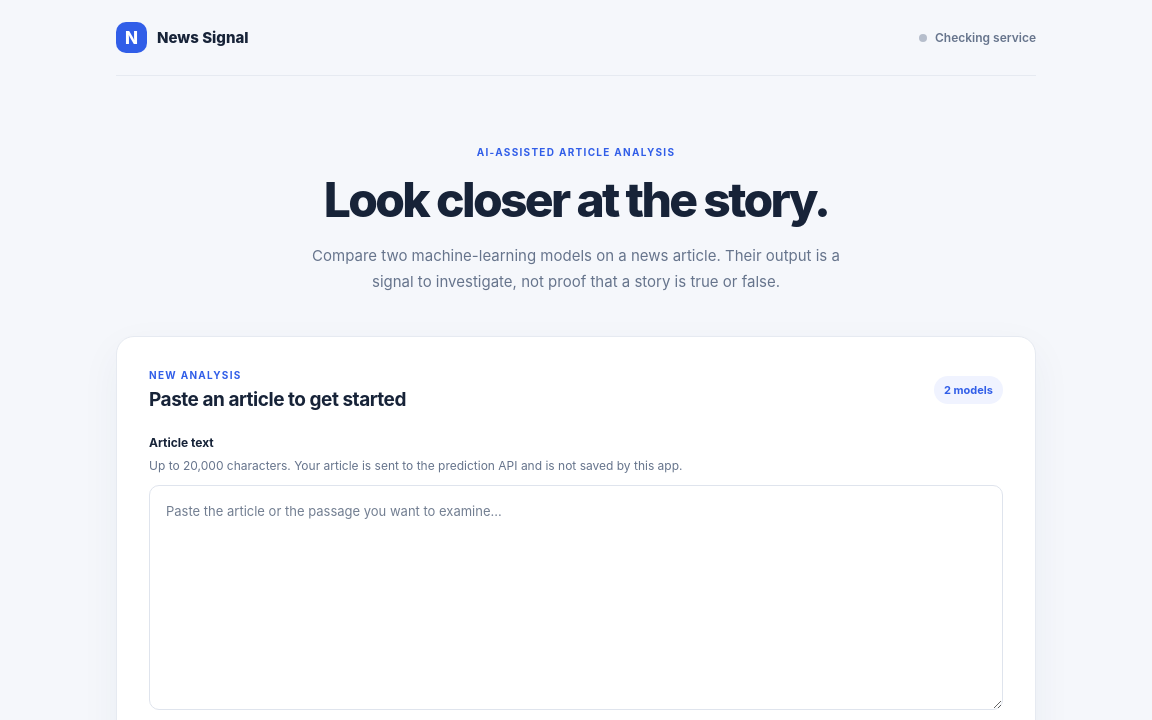
Test case: article analysis › renders API validation errors as readable text
Type "A sample article." into the text box labelled "Article text" at (576, 597), box [149, 485, 1003, 710]
(page scrolled)
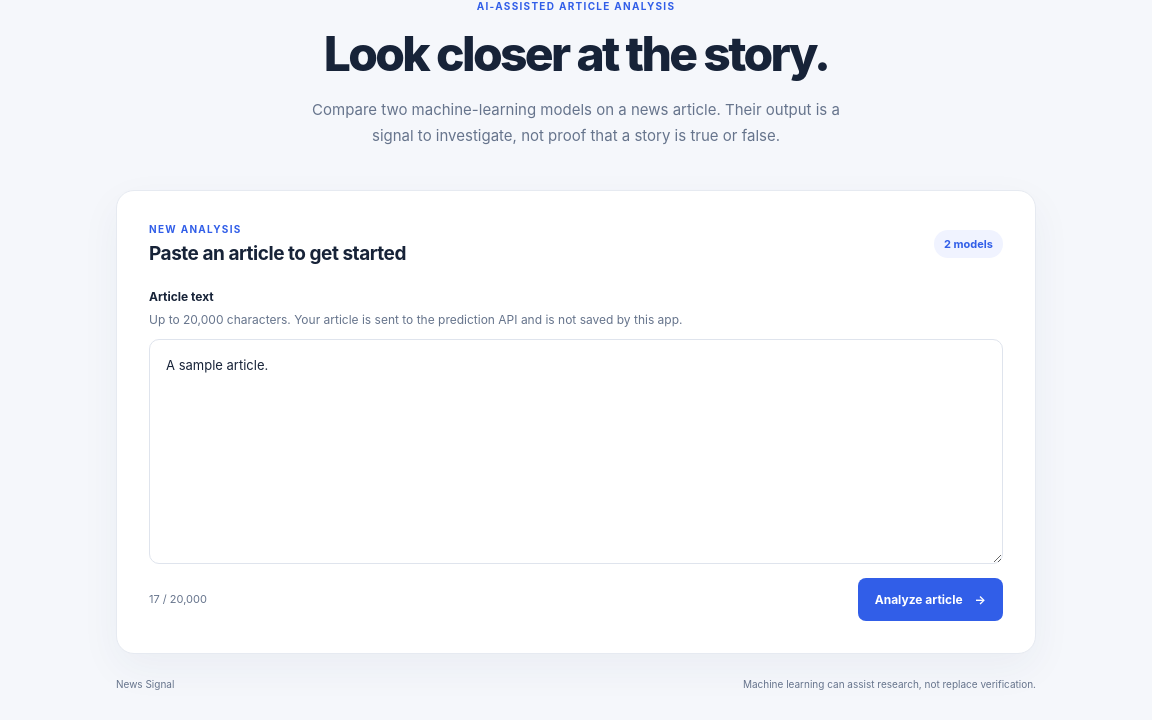
Click the button "Analyze article →" at (930, 599), box [858, 578, 1003, 621]
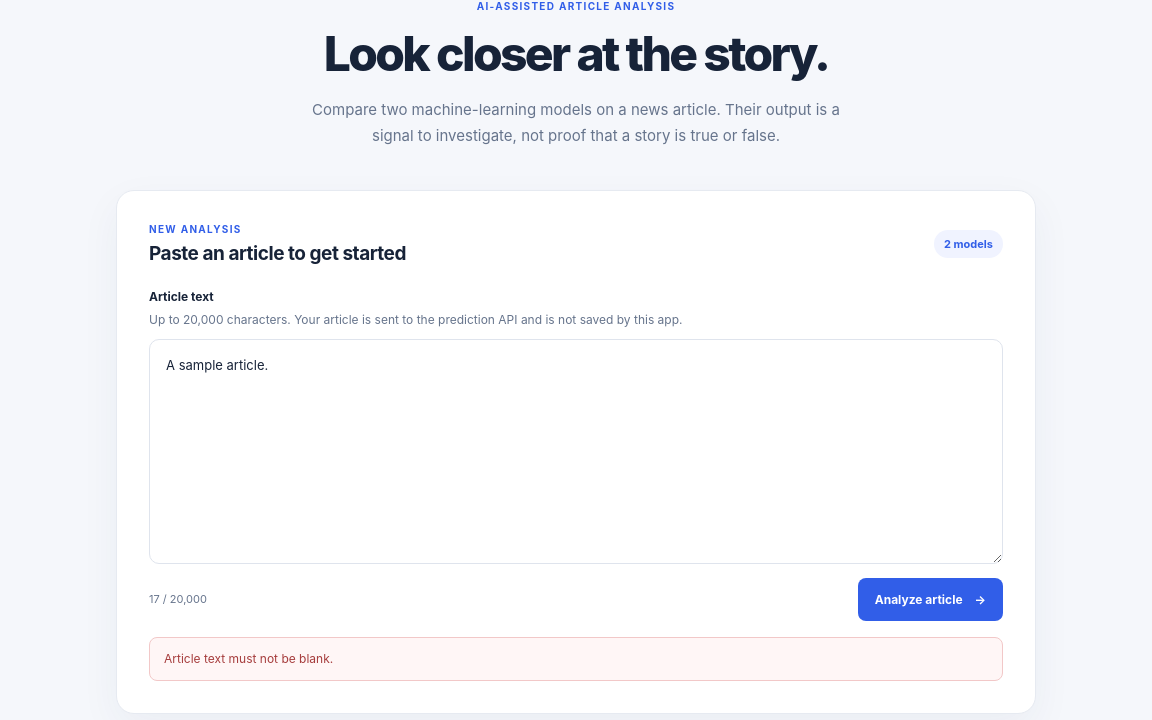
Result: the message reads "Article text must not be blank." at [164, 651, 333, 666]
